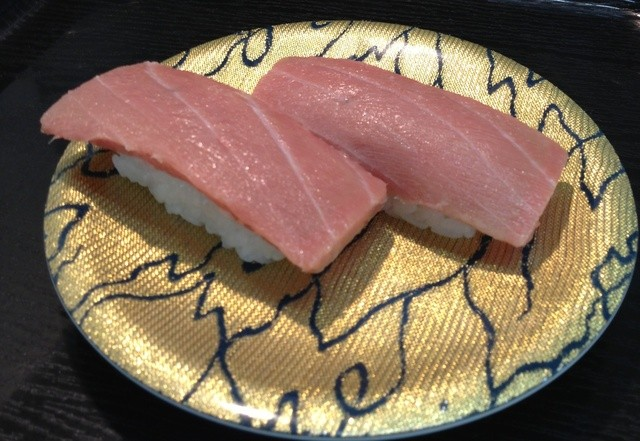medium_fatty_tuna: (40, 61, 383, 281), (261, 56, 571, 248)
